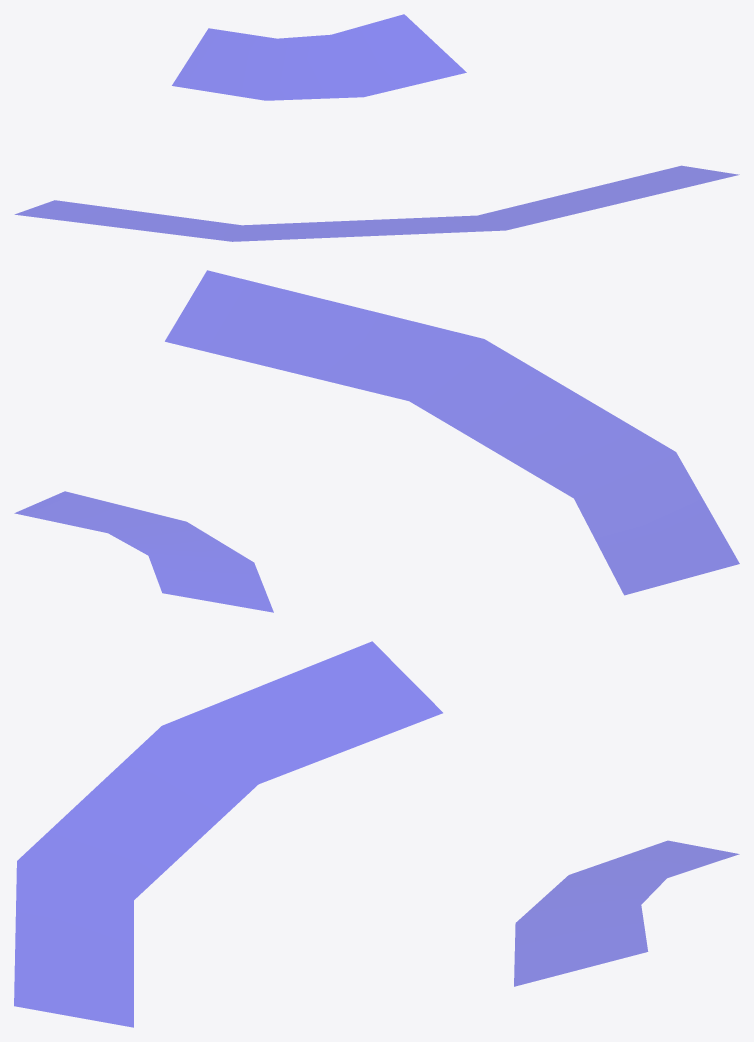
The model's file is track_la_coll_off_25.fbx.
3 views of the same model, one above another, from view 1: azimuth 30°, elevation 25°; view 2: azimuth 150°, elevation 25°; view 3: azimuth 270°, elevation 25° (orthographic). The views are drawn at different scales.
Visible parts, largest first — view 1: track_la_coll_off_25; view 2: track_la_coll_off_25; view 3: track_la_coll_off_25.
Part boxes in pixels (box(x1,y1,x2,y2)): track_la_coll_off_25: box(15, 14, 739, 241); track_la_coll_off_25: box(14, 270, 739, 612); track_la_coll_off_25: box(14, 641, 739, 1027).
Bounding box in the file's own units: 49.44 × 1.83 × 41.6.
